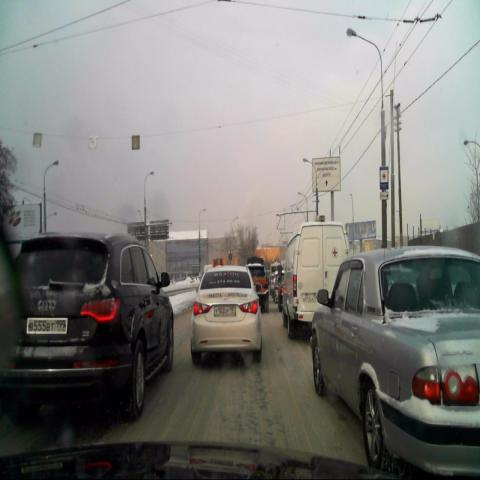7_1: (380, 166, 389, 189)
